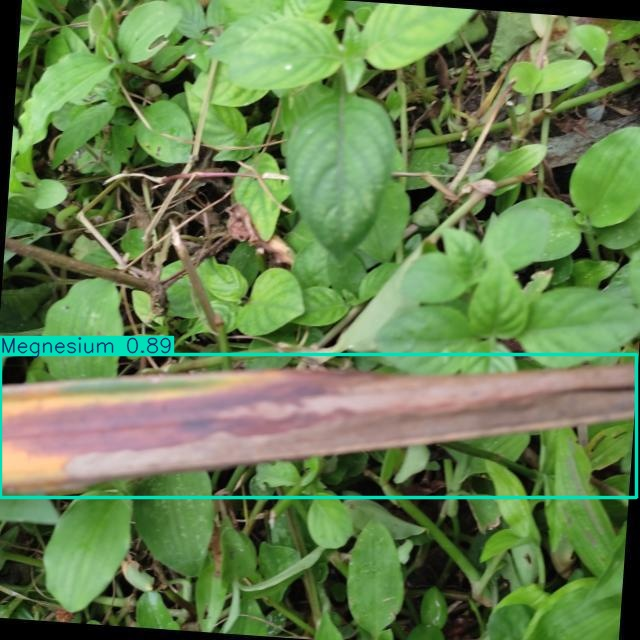Megnesium: (0, 355, 637, 497)
